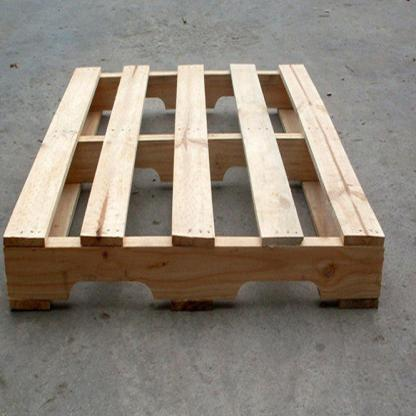BoxFace: (3, 63, 387, 312)
